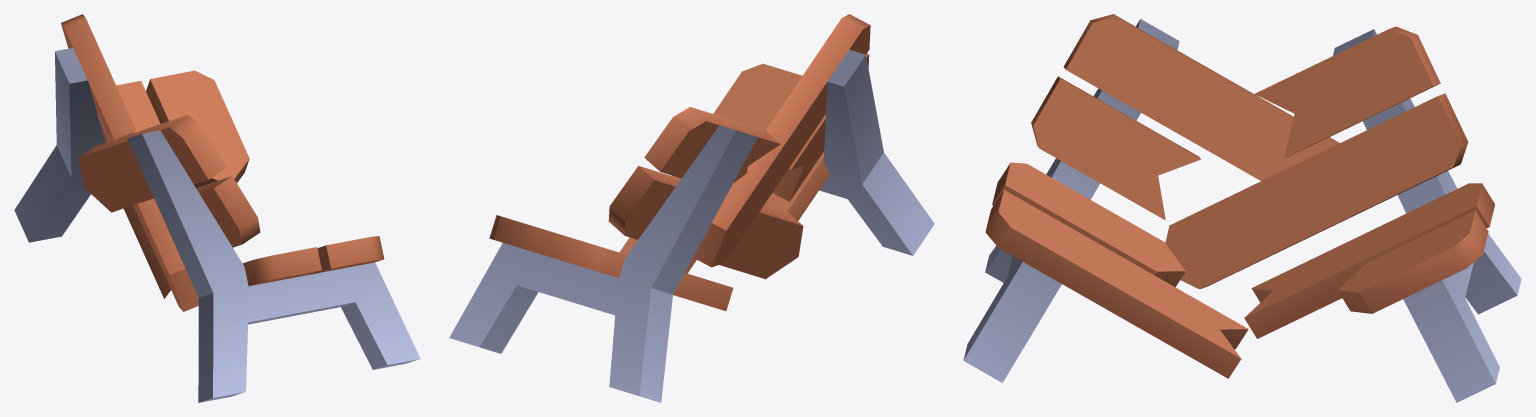
File: bench-damaged.001_lev2.glb
3 renders of one model, left to right at view 1: azimuth 30°, elevation 25°; view 2: azimuth 150°, elevation 25°; view 3: azimuth 270°, elevation 25°, orthographic. The views are drawn at different scales.
Parts seen in each view (by area): view 1: bench-damaged.001_lev2; view 2: bench-damaged.001_lev2; view 3: bench-damaged.001_lev2.
Part boxes in pixels (box(x1,y1,x2,y2)): bench-damaged.001_lev2: box(14, 14, 420, 402); bench-damaged.001_lev2: box(449, 14, 934, 402); bench-damaged.001_lev2: box(963, 14, 1521, 402).
Bounding box in the file's own units: 4.16 × 4.15 × 7.58.
1 material, 1 textured.
